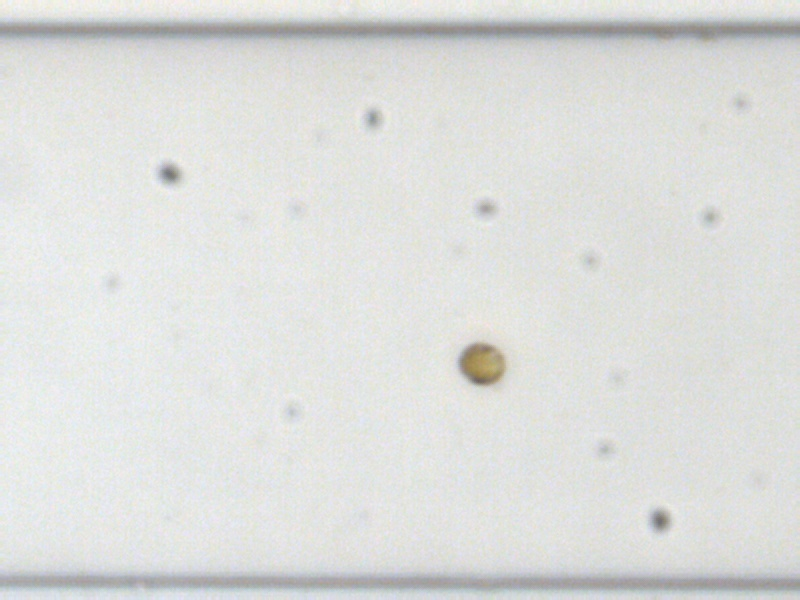Effrenium: (458, 341, 507, 386)
